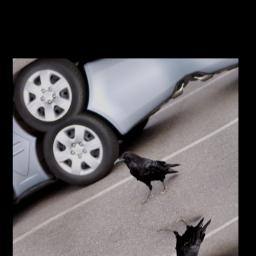Crow: (111, 129, 190, 208)
